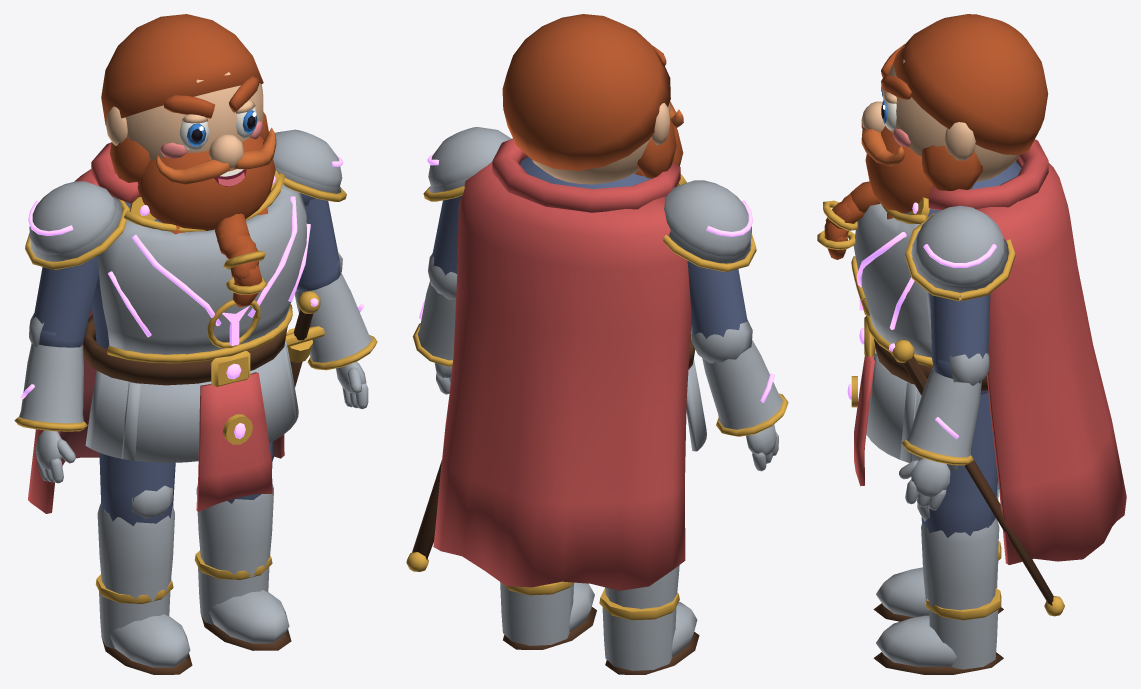
Rendered from npc_brannoc.glb.
3 renders of one model, left to right at view 1: azimuth 30°, elevation 25°; view 2: azimuth 150°, elevation 25°; view 3: azimuth 270°, elevation 25°, orthographic. The views are drawn at different scales.
Parts seen in each view (by area): view 1: Body, Head, ArmR, ArmL; view 2: Body, Head, ArmR, ArmL; view 3: Body, Head, ArmL.
Part boxes in pixels (x1,y1,x2,y2): Body: (28, 142, 324, 674); Head: (101, 14, 276, 307); ArmR: (14, 181, 129, 483); ArmL: (273, 129, 377, 409); Body: (406, 138, 706, 674); Head: (502, 14, 683, 184); ArmR: (663, 180, 788, 471); ArmL: (412, 127, 511, 394); Body: (847, 139, 1126, 674); Head: (817, 14, 1048, 259); ArmL: (899, 205, 1015, 510).
Size of the model in its own units: 1.18 by 1.96 by 0.8853.
